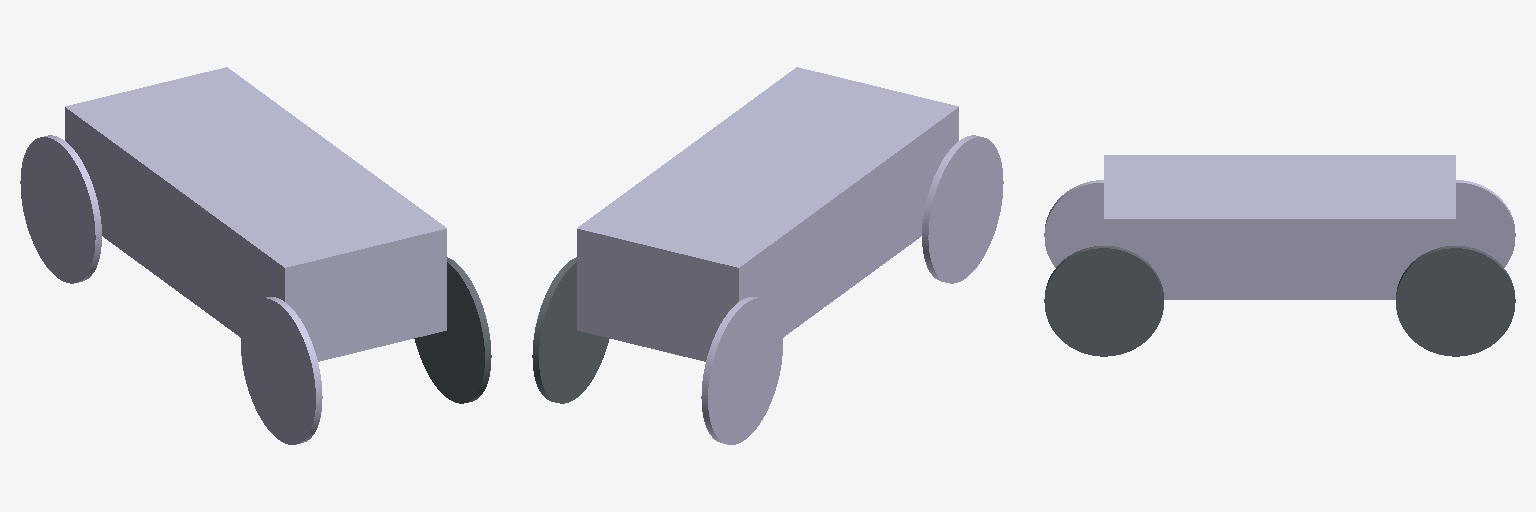
The robot description file, URDF, robot "Robot":
<?xml version="1.0" ?>
<robot name="Robot">
  <!--Generated by RobotCAD, a ROS Workbench for FreeCAD (https://github.com/drfenixion/freecad.robotcad)-->
  <link name="l_car_frame001">
    <visual>
      <!--car_frame001/car_frame001.Body.-->
      <origin rpy="0 0 0" xyz="0.1 0.1 0.1"/>
      <geometry>
        <mesh filename="package://diff_drive/meshes/diffdrive_body_sugjof.dae"/>
      </geometry>
    </visual>
    <collision>
      <origin rpy="0 0 0" xyz="0.1 0.1 0.1"/>
      <geometry>
        <box size="0.5 1.175 0.3"/>  <!-- Approximate dimensions -->
      </geometry>
    </collision>

    <inertial>
      <mass value="186.825"/>
      <origin rpy="0 0 0" xyz="0.1 0.1 0.25"/>
      <inertia ixx="22.895792968751056" ixy="-3e-16" ixz="-1e-16" iyy="5.29337500000106" iyz="-0.0" izz="25.386792968751056"/>
    </inertial>
  </link>



  <link name="l_left_front_wheel001">
    <visual>
      <!--left_front_wheel001/left_front_wheel001.Body001.-->
      <origin rpy="0 0 0" xyz="0.0 0.0 0.0"/>
      <geometry>
        <mesh filename="package://diff_drive/meshes/diffdrive_body001_awhmdt.dae"/>
      </geometry>
    </visual>
    <collision>
      <!--col__l_left_front_wheel001__col_left_front_wheel__BoundCylinder/col_left_front_wheel__BoundCylinder.-->
      <origin rpy="1.5707963267948963 0 0" xyz="0.0 0.01 0.0"/>
      <geometry>
        <cylinder length="0.02" radius="0.2"/>
      </geometry>
    </collision>
    <inertial>
      <mass value="2.6640705702441454"/>
      <origin rpy="0 0 0" xyz="0.0 0.01 0.0"/>
      <inertia ixx="0.0267295080558428" ixy="0.0" ixz="0.0" iyy="0.0532814114059431" iyz="-0.0" izz="0.0267295080558433"/>
    </inertial>
  </link>



  <link name="l_left_back_wheel001">
    <visual>
      <!--left_back_wheel001/left_back_wheel001.Body002.-->
      <origin rpy="0 0 0" xyz="0.0 0.0 0.0"/>
      <geometry>
        <mesh filename="package://diff_drive/meshes/diffdrive_body002_5eqtna.dae"/>
      </geometry>
    </visual>
    <collision>
      <!--col__l_left_back_wheel001__col_left_back_wheel__BoundCylinder/col_left_back_wheel__BoundCylinder.-->
      <origin rpy="1.5707963267948968 0 0" xyz="0.0 0.01 0.0"/>
      <geometry>
        <cylinder length="0.02" radius="0.2"/>
      </geometry>
    </collision>
    <inertial>
      <mass value="2.6640705702441445"/>
      <origin rpy="0 0 0" xyz="0.0 0.01 0.0"/>
      <inertia ixx="0.0267295080558428" ixy="0.0" ixz="-0.0" iyy="0.0532814114059431" iyz="0.0" izz="0.0267295080558433"/>
    </inertial>
  </link>




  <link name="l_right_front_wheel001">
    <visual>
      <!--right_front_wheel001/right_front_wheel001.Body003.-->
      <origin rpy="0 0 0" xyz="0.0 0.0 0.0"/>
      <geometry>
        <mesh filename="package://diff_drive/meshes/diffdrive_body003_hnqjn0.dae"/>
      </geometry>
    </visual>
    <collision>
      <!--col__l_right_front_wheel001__col_right_front_wheel__BoundCylinder/col_right_front_wheel__BoundCylinder.-->
      <origin rpy="-1.570796326794897 0 0" xyz="0.0 -0.01 0.0"/>
      <geometry>
        <cylinder length="0.02" radius="0.2"/>
      </geometry>
    </collision>
    <inertial>
      <mass value="2.664070570244145"/>
      <origin rpy="0 0 0" xyz="0.0 -0.01 0.0"/>
      <inertia ixx="0.0267295080558435" ixy="4.4763163e-09" ixz="4e-16" iyy="0.0532814114059423" iyz="2.3212409e-09" izz="0.0267295080558435"/>
    </inertial>
  </link>



  <link name="l_right_back_wheel001">
    <visual>
      <!--right_back_wheel001/right_back_wheel001.Body004.-->
      <origin rpy="0 0 0" xyz="0.0 0.0 0.0"/>
      <geometry>
        <mesh filename="package://diff_drive/meshes/diffdrive_body004_q8sv7a.dae"/>
      </geometry>
    </visual>
    <collision>
      <!--col__l_right_back_wheel001__col_right_back_wheel__BoundCylinder/col_right_back_wheel__BoundCylinder.-->
      <origin rpy="-1.5707963267948963 0 0" xyz="0.0 -0.01 0.002"/>
      <geometry>
        <cylinder length="0.02" radius="0.2"/>
      </geometry>
    </collision>
    <inertial>
      <mass value="2.6640705702441445"/>
      <origin rpy="0 0 0" xyz="0.0 -0.1 0.0"/>
      <inertia ixx="0.0532814114059431" ixy="-0.0" ixz="0.0" iyy="0.0267295080558428" iyz="0.0" izz="0.0267295080558433"/>
    </inertial>
  </link>



  <joint name="l_car_frame001__to__l_left_front_wheel001" type="continuous">
    <parent link="l_car_frame001"/>
    <child link="l_left_front_wheel001"/>
    <origin rpy="0 0 1.5707963267948968" xyz="-0.15 0.6875 0.1"/>
    <axis xyz="0 1 0"/>
  </joint>


  <joint name="l_car_frame001__to__l_left_back_wheel001" type="continuous">
    <parent link="l_car_frame001"/>
    <child link="l_left_back_wheel001"/>
    <origin rpy="0 0 1.5707963267948961" xyz="-0.15 -0.4875 0.1"/>
    <axis xyz="0 1 0"/>
  </joint>


  <joint name="l_car_frame001__to__l_right_front_wheel001" type="continuous">
    <parent link="l_car_frame001"/>
    <child link="l_right_front_wheel001"/>
    <origin rpy="0 0 1.5707963267948961" xyz="0.35 0.6875 0.1"/>
    <axis xyz="0 -1 0"/>
  </joint>


  <joint name="l_car_frame001__to__l_right_back_wheel001" type="continuous">
    <parent link="l_car_frame001"/>
    <child link="l_right_back_wheel001"/>
    <origin rpy="0 0 1.5707963267948961" xyz="0.37 -0.4875 0.1"/>
    <axis xyz="0 -1 0"/>
  </joint>



    <!-- Gazebo ros2_control plugin -->
  <ros2_control name="MockHardware" type="system">
    <hardware>
      <plugin>mock_components/GenericSystem</plugin>
      <param name="mock_sensor_commands">false</param>
      <param name="state_following_offset">0.0</param>
    </hardware>
    
    <!-- Left wheels -->
    <joint name="l_car_frame001__to__l_left_front_wheel001">
      <command_interface name="velocity">
        <param name="min">-10</param>
        <param name="max">10</param>
      </command_interface>
      <state_interface name="velocity"/>
      <state_interface name="position"/>
    </joint>
    
    <joint name="l_car_frame001__to__l_left_back_wheel001">
      <command_interface name="velocity">
        <param name="min">-10</param>
        <param name="max">10</param>
      </command_interface>
      <state_interface name="velocity"/>
      <state_interface name="position"/>
    </joint>
    
    <!-- Right wheels -->
    <joint name="l_car_frame001__to__l_right_front_wheel001">
      <command_interface name="velocity">
        <param name="min">-10</param>
        <param name="max">10</param>
      </command_interface>
      <state_interface name="velocity"/>
      <state_interface name="position"/>
    </joint>
    
    <joint name="l_car_frame001__to__l_right_back_wheel001">
      <command_interface name="velocity">
        <param name="min">-10</param>
        <param name="max">10</param>
      </command_interface>
      <state_interface name="velocity"/>
      <state_interface name="position"/>
    </joint>
  </ros2_control>

  <!-- Gazebo ros2_control plugin
  <gazebo>
    <plugin filename="libgz_ros2_control-system.so" name="gz_ros2_control::GazeboSimROS2ControlPlugin">
      <parameters>$(find diff_drive)/overcross/Robot_controllers.yaml</parameters>
    </plugin>
  </gazebo> -->

</robot>

--- Render facts (derived) ---
Views: 3 orthographic renders of the robot side by side, from view 1: azimuth 30°, elevation 25°; view 2: azimuth 150°, elevation 25°; view 3: azimuth 270°, elevation 25°.
Model Robot with 5 links and 4 joints (4 continuous), rooted at l_car_frame001, posed all joints at 0.
Visible links, largest first — view 1: l_car_frame001, l_left_back_wheel001, l_left_front_wheel001, l_right_back_wheel001; view 2: l_car_frame001, l_left_front_wheel001, l_left_back_wheel001, l_right_front_wheel001; view 3: l_car_frame001, l_right_front_wheel001, l_right_back_wheel001, l_left_front_wheel001, l_left_back_wheel001.
Boxes of the visible links, x1=… form: l_car_frame001: x1=65, y1=67, x2=446, y2=361; l_left_back_wheel001: x1=241, y1=297, x2=322, y2=444; l_left_front_wheel001: x1=20, y1=135, x2=101, y2=283; l_right_back_wheel001: x1=414, y1=257, x2=491, y2=403; l_car_frame001: x1=577, y1=67, x2=958, y2=361; l_left_front_wheel001: x1=701, y1=297, x2=782, y2=444; l_left_back_wheel001: x1=922, y1=135, x2=1003, y2=283; l_right_front_wheel001: x1=532, y1=257, x2=609, y2=403; l_car_frame001: x1=1104, y1=155, x2=1455, y2=299; l_right_front_wheel001: x1=1396, y1=246, x2=1515, y2=356; l_right_back_wheel001: x1=1044, y1=246, x2=1163, y2=356; l_left_front_wheel001: x1=1456, y1=180, x2=1515, y2=267; l_left_back_wheel001: x1=1044, y1=180, x2=1103, y2=267.
Size in the robot's own frame: 0.54 by 1.57 by 0.4999 metres.
5 mesh visuals loaded from 5 distinct referenced files (5 Collada DAE).